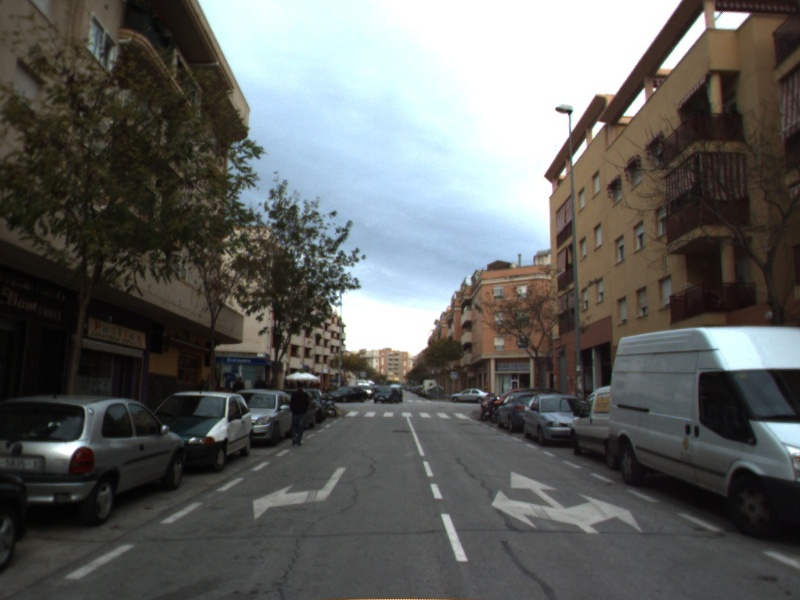STRAIGHT_LEFT_RIGHT: (489, 469, 644, 536)
